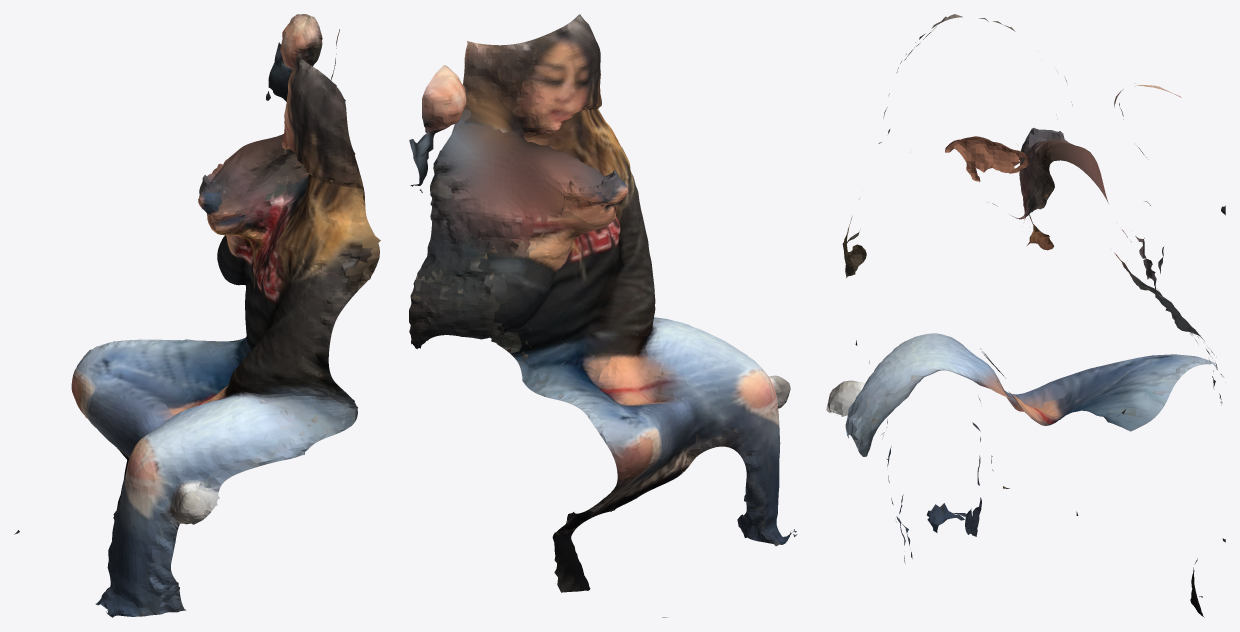
The picture shows the model from 3 angles, left to right: view 1: azimuth 30°, elevation 25°; view 2: azimuth 150°, elevation 25°; view 3: azimuth 270°, elevation 25°; orthographic projection. The views are drawn at different scales.
Size of the model in its own units: 0.5907 by 0.9792 by 0.5461.
1 material, 1 textured.
